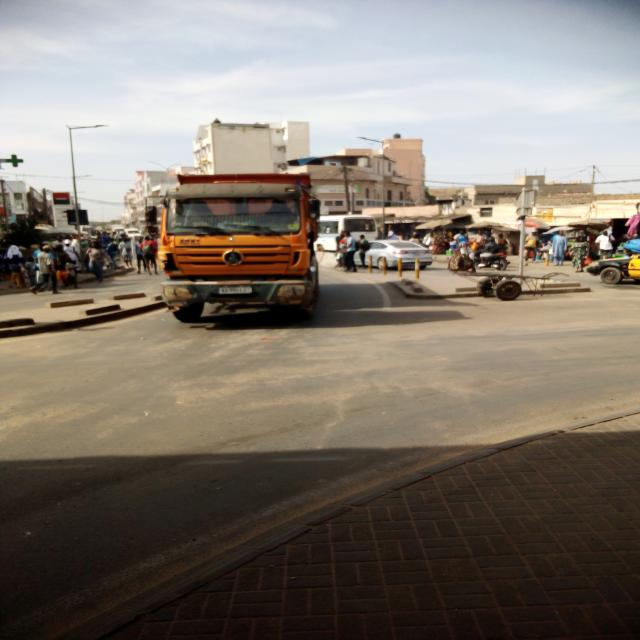bus tata: (316, 216, 379, 252)
camion: (161, 175, 321, 324)
particulier: (368, 241, 434, 269)
pousse pousse: (458, 274, 561, 302)
taxi: (588, 255, 640, 285)
